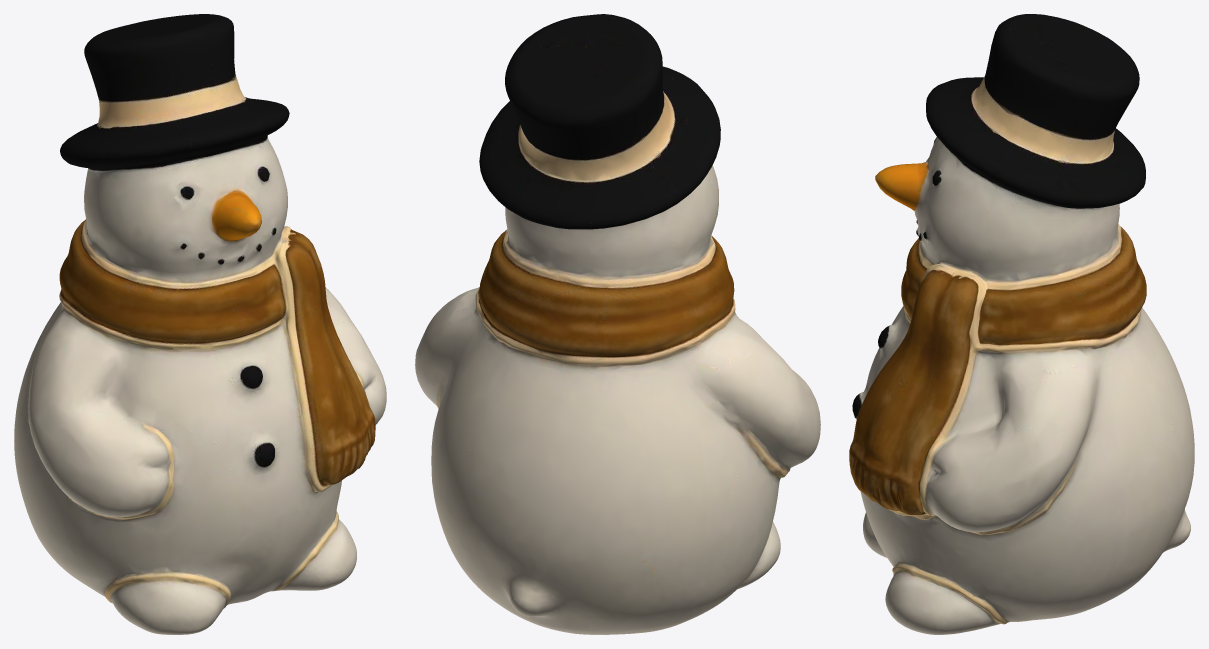
File: snowman.glb
3 views of the same model, side by side, from view 1: azimuth 30°, elevation 25°; view 2: azimuth 150°, elevation 25°; view 3: azimuth 270°, elevation 25° (orthographic). The views are drawn at different scales.
Size of the model in its own units: 1.33 by 2 by 1.14.
1 material, 1 textured.
